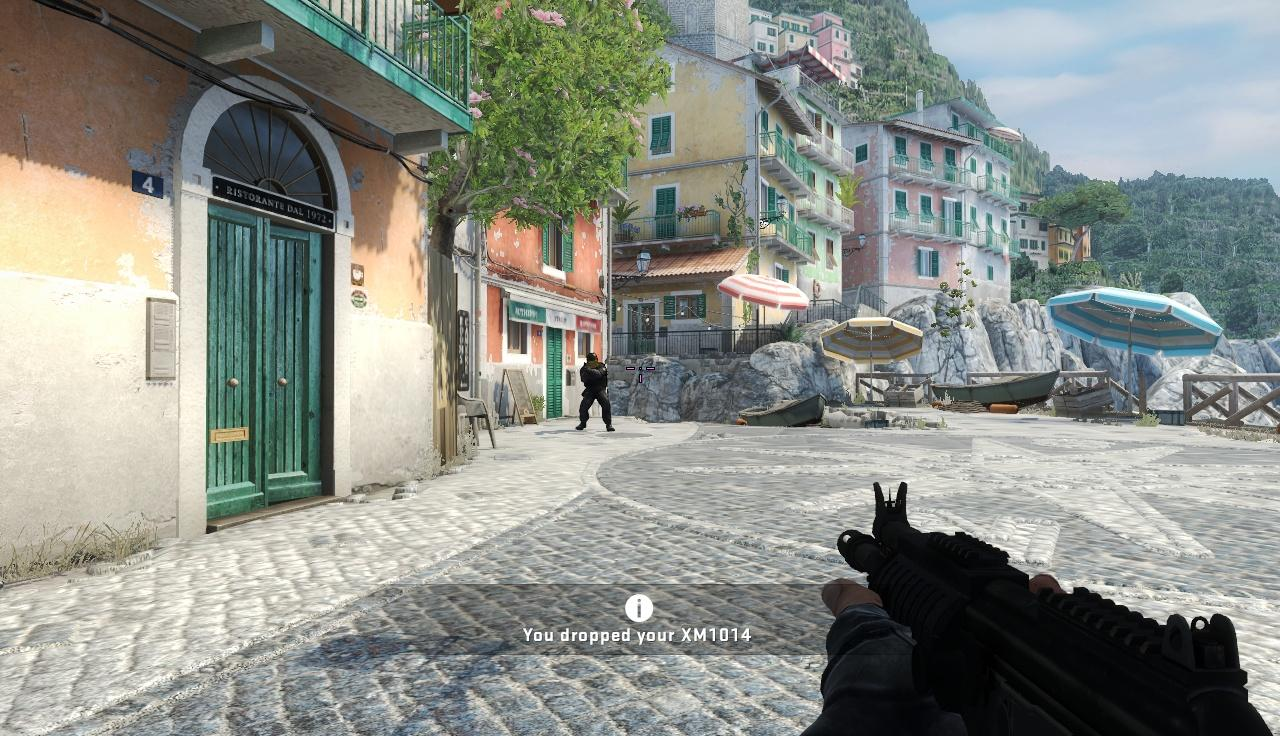ct: (579, 352, 608, 432)
cthead: (586, 353, 599, 369)
rifle: (820, 479, 1280, 736)
